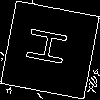H: (25, 25, 78, 70)
